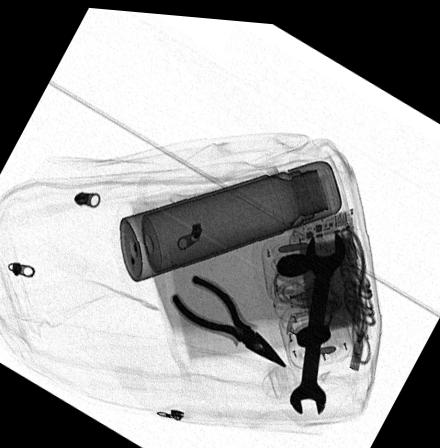Pliers: (170, 270, 288, 362)
Powerbank: (291, 201, 365, 347)
Wrench: (288, 222, 345, 409)
